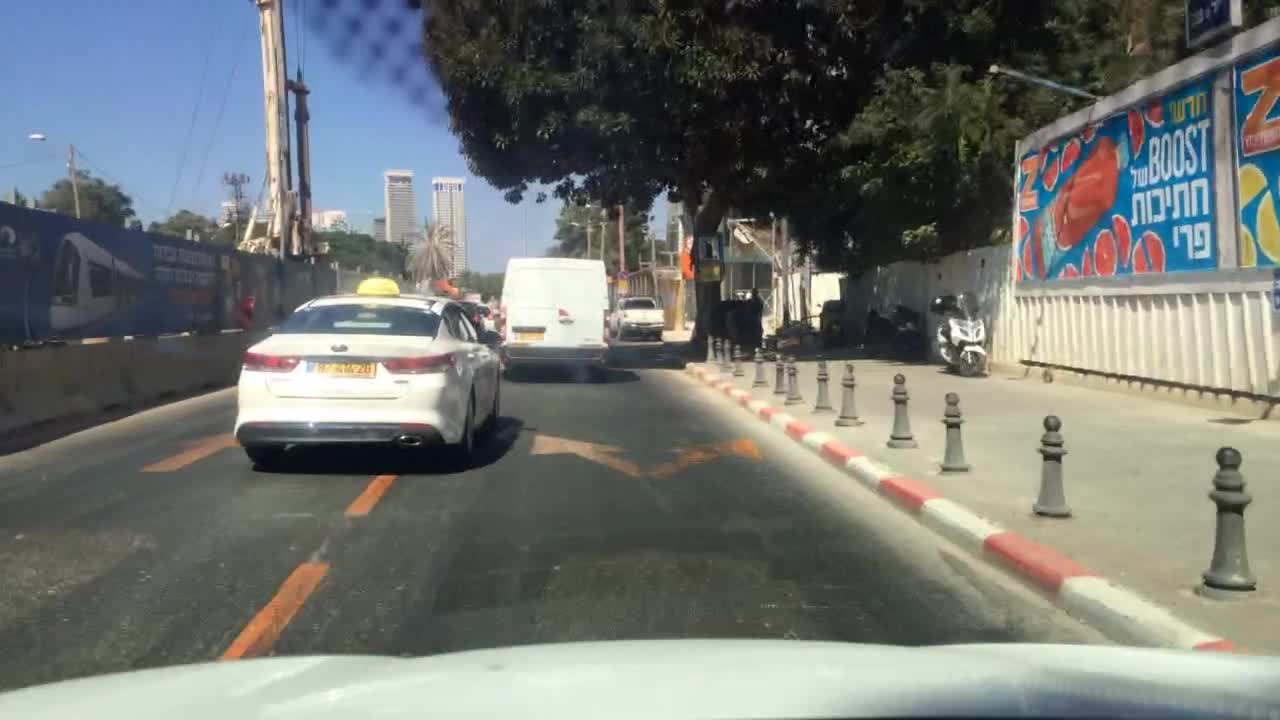car: (233, 274, 504, 467), (451, 298, 490, 332), (478, 303, 501, 329)
motor: (928, 291, 987, 377), (859, 304, 926, 359)
person: (748, 286, 764, 350)
truck: (496, 255, 609, 379), (609, 297, 664, 340)
